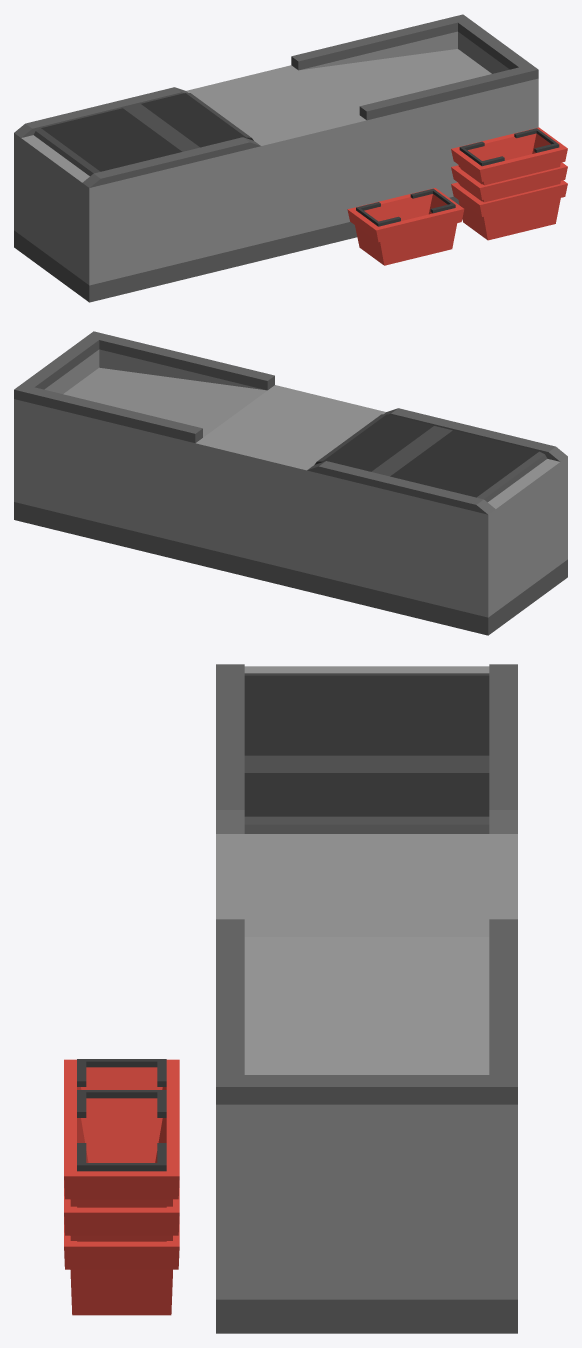
Rendered from Cash_belt.fbx.
The picture shows the model from 3 angles, top to bottom: view 1: azimuth 30°, elevation 25°; view 2: azimuth 150°, elevation 25°; view 3: azimuth 270°, elevation 25°; orthographic projection. The views are drawn at different scales.
Visible parts, largest first — view 1: Belt; view 2: Belt; view 3: Belt.
Boxes of the visible parts, x1,y1,x2,y2 form: Belt: (14,14,567,302); Belt: (14,331,567,635); Belt: (64,664,517,1333).
Size of the model in its own units: 1.79 by 4.09 by 1.07.
